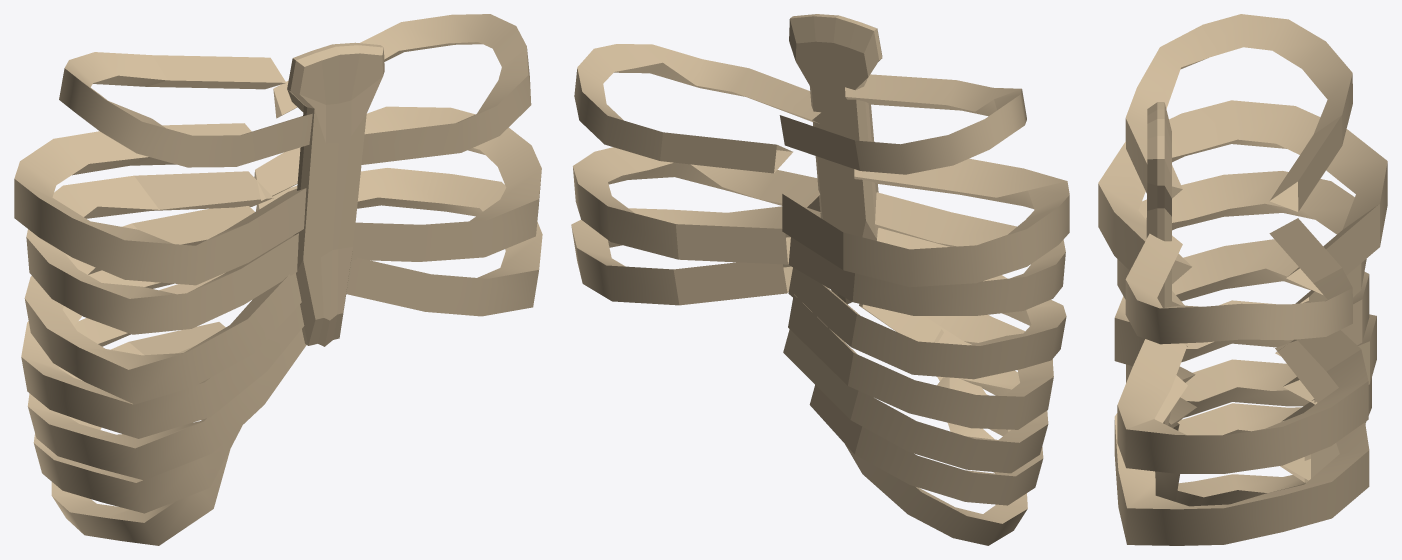
Rendered from Cage Thoracique.FBX.
3 views of the same model, side by side, from view 1: azimuth 30°, elevation 25°; view 2: azimuth 150°, elevation 25°; view 3: azimuth 270°, elevation 25° (orthographic). The views are drawn at different scales.
Visible parts, largest first — view 1: Cage thoracique; view 2: Cage thoracique; view 3: Cage thoracique.
Part boxes in pixels (box(x1,y1,x2,y2)): Cage thoracique: box(14, 14, 542, 545); Cage thoracique: box(571, 14, 1069, 545); Cage thoracique: box(1098, 14, 1387, 545).
Size of the model in its own units: 25.57 by 22.97 by 11.82.
